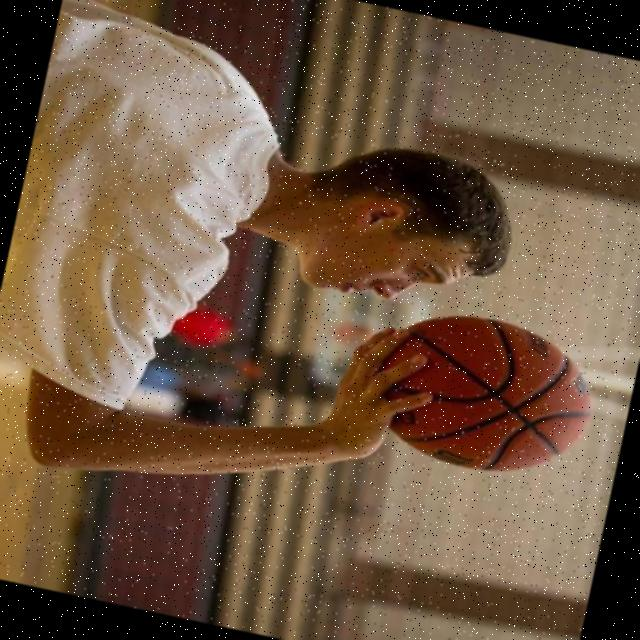ball: (368, 301, 603, 489)
